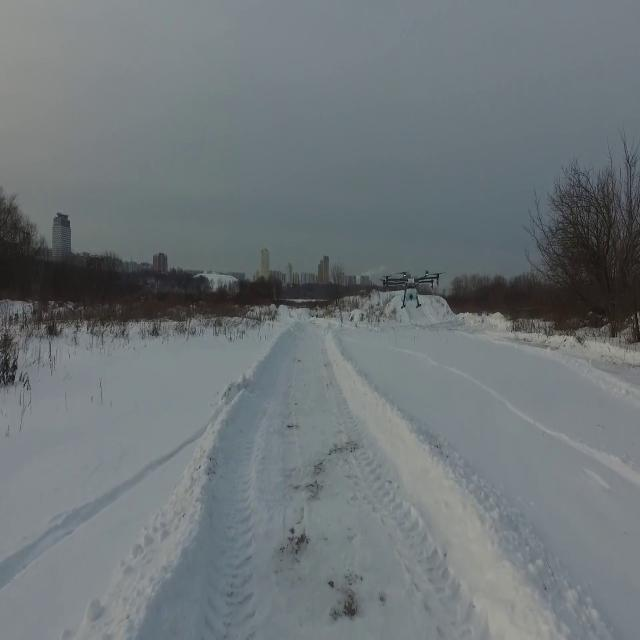Drons: (373, 262, 448, 318)
